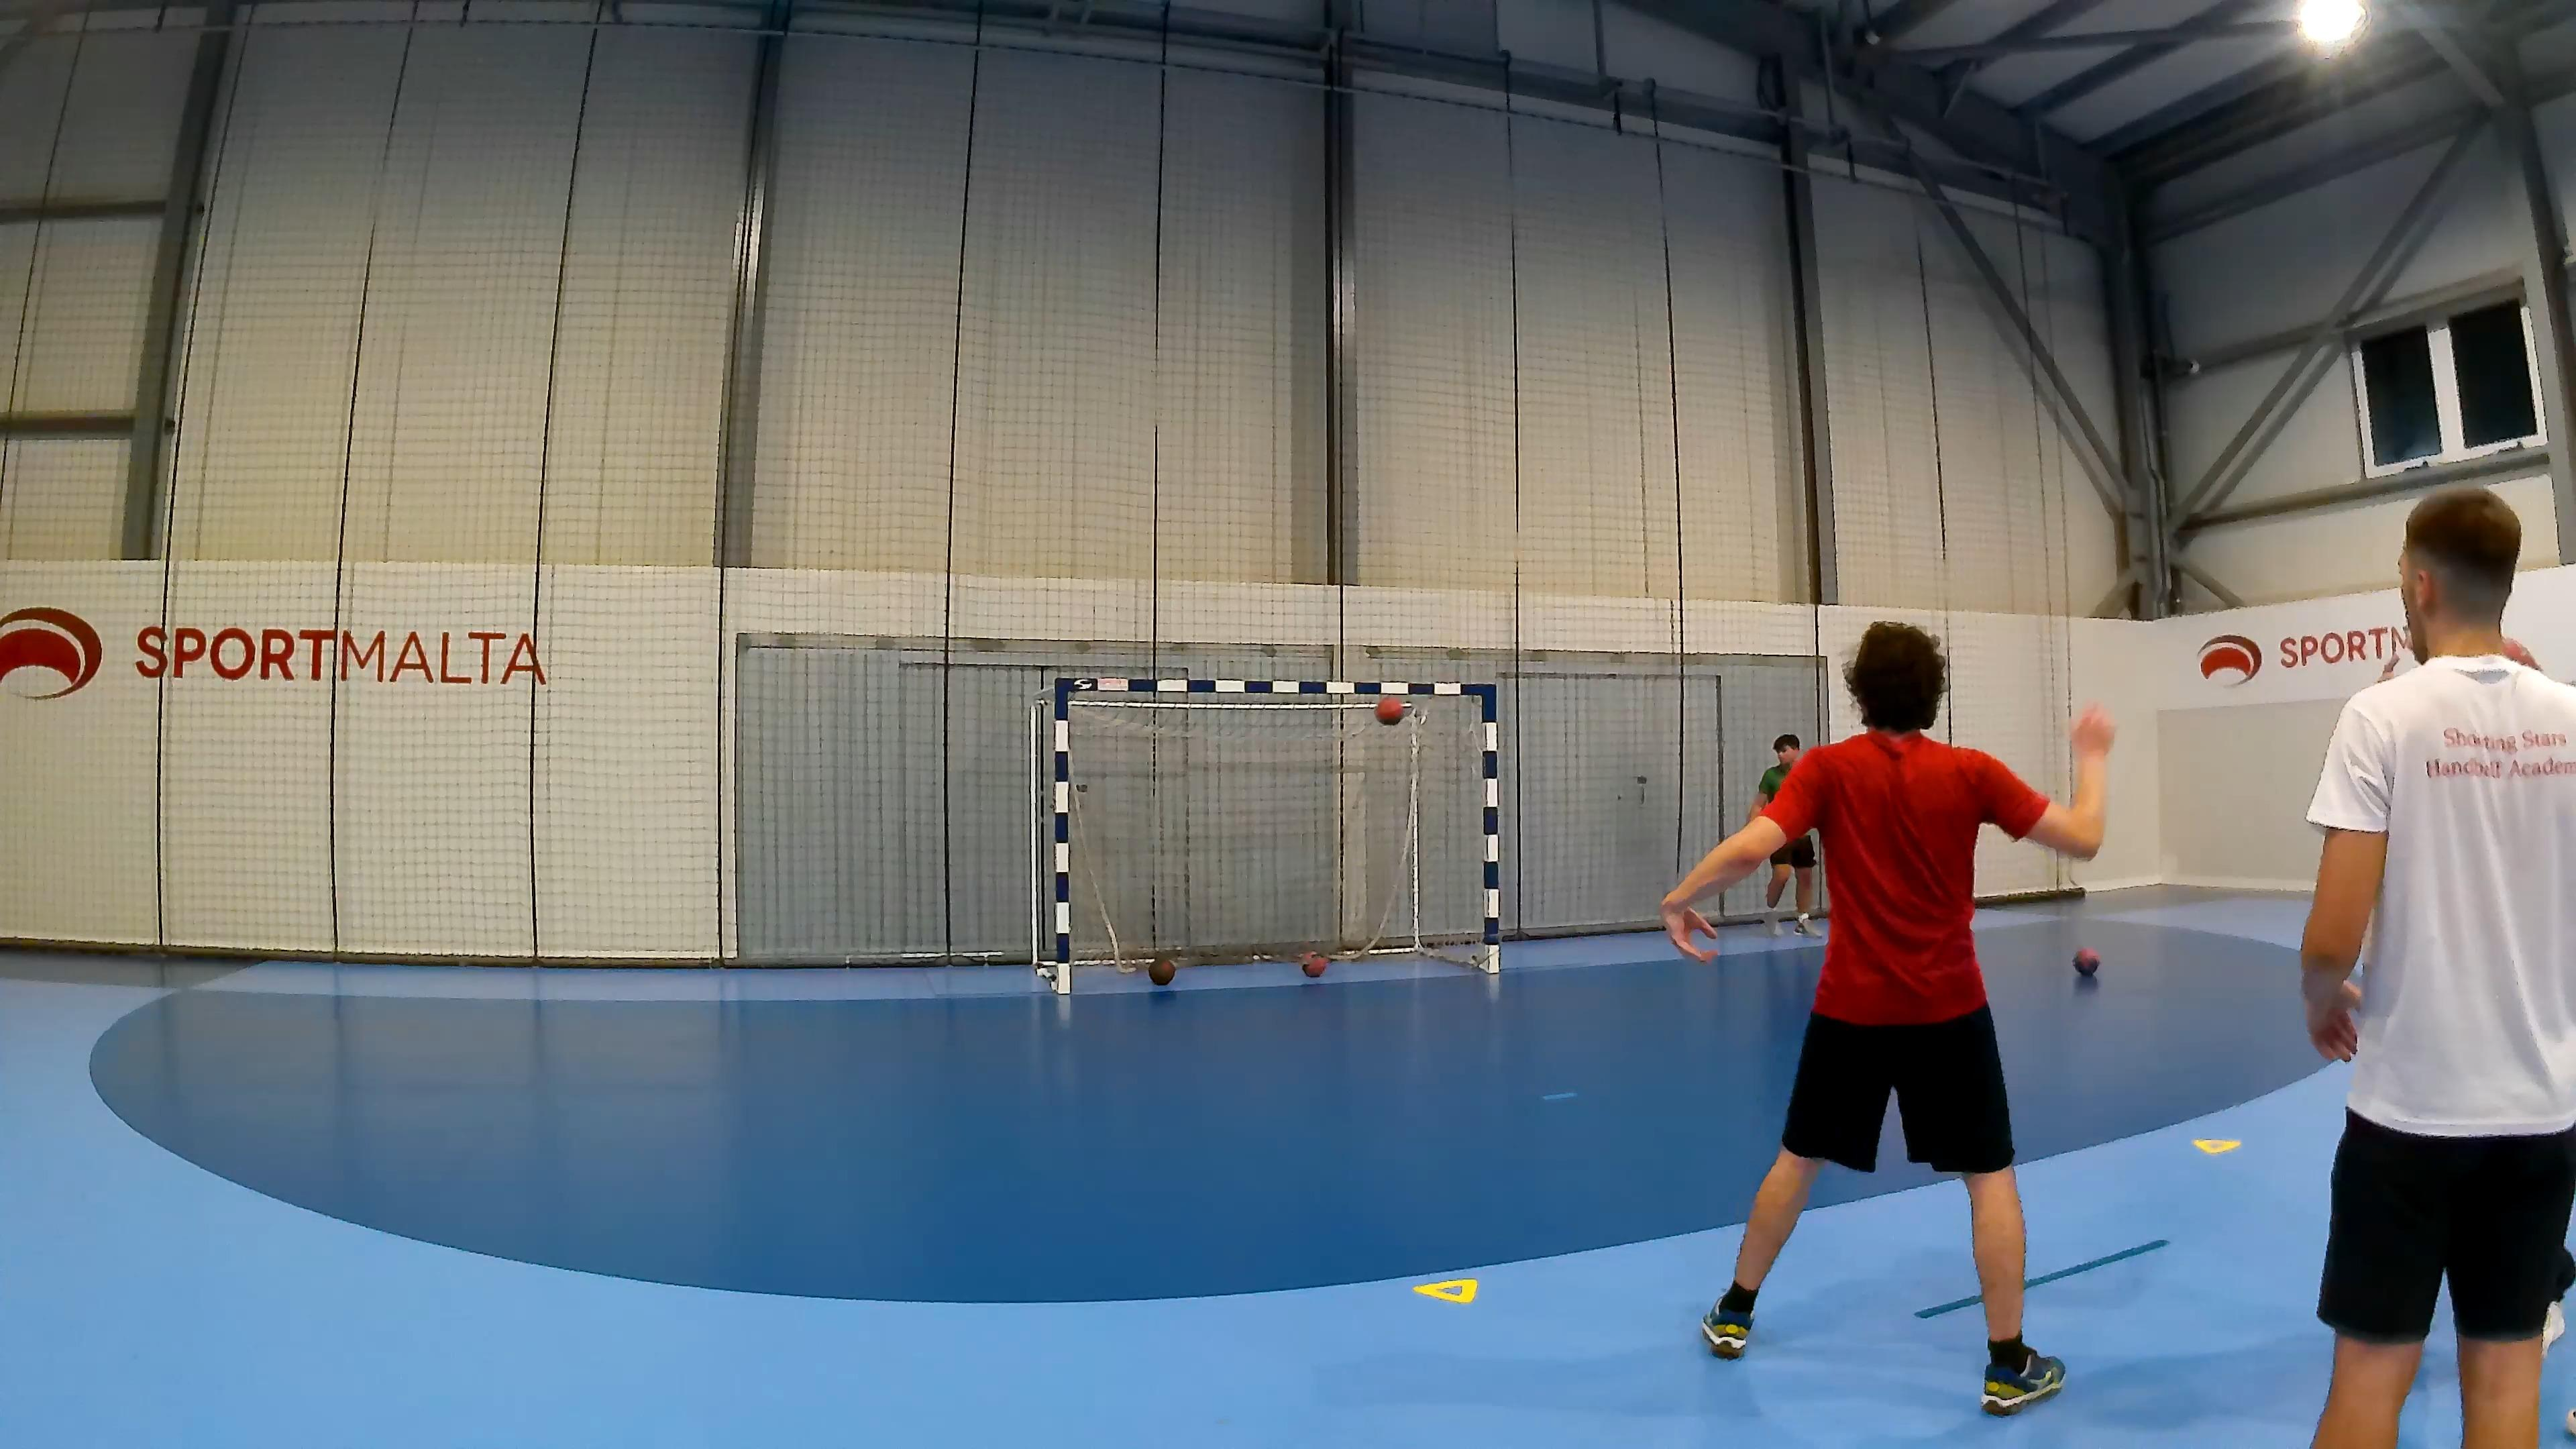handball: (1373, 694, 1403, 724), (1146, 955, 1175, 985), (2074, 947, 2098, 975), (1300, 952, 1327, 977)
